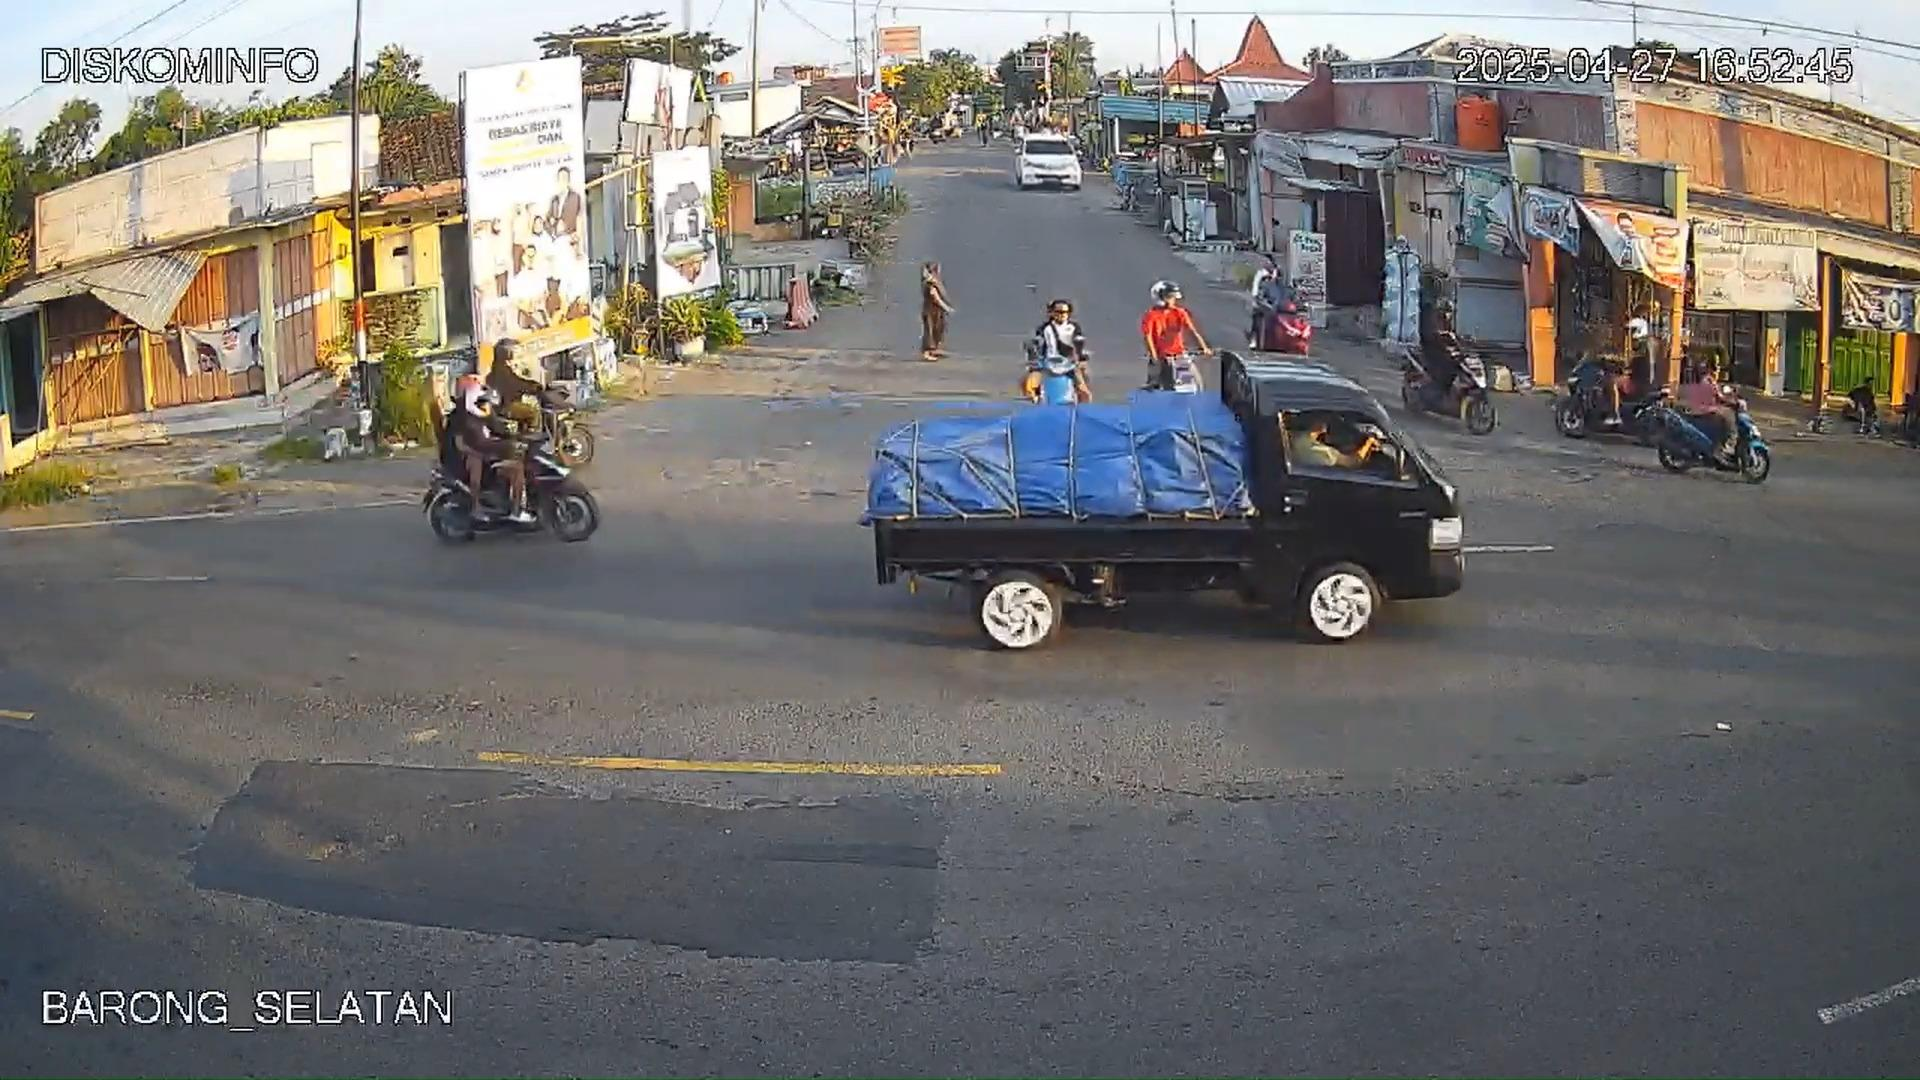Motor: (422, 407, 604, 545), (1642, 388, 1768, 481), (1399, 330, 1495, 434), (1141, 282, 1208, 394), (1030, 297, 1088, 401), (524, 384, 595, 468), (1553, 360, 1614, 439)
